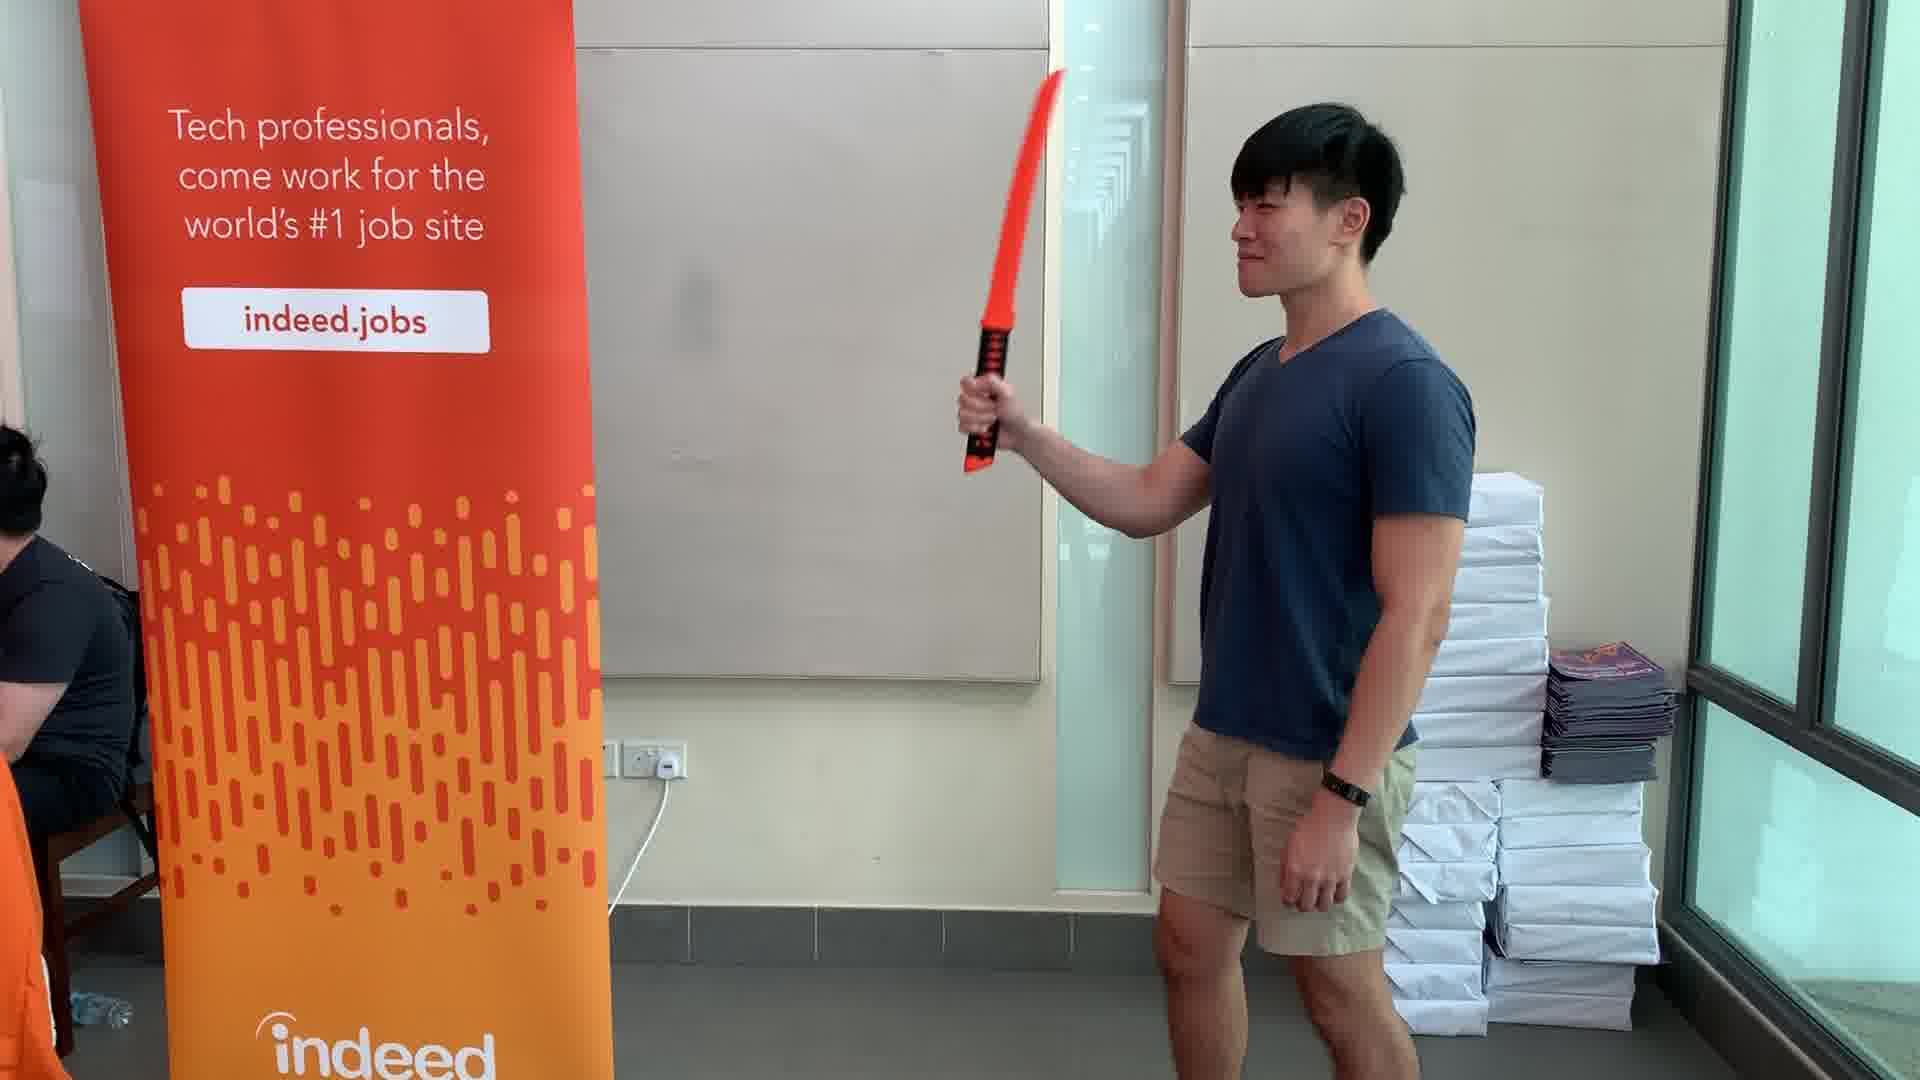knife: (948, 51, 1079, 485)
